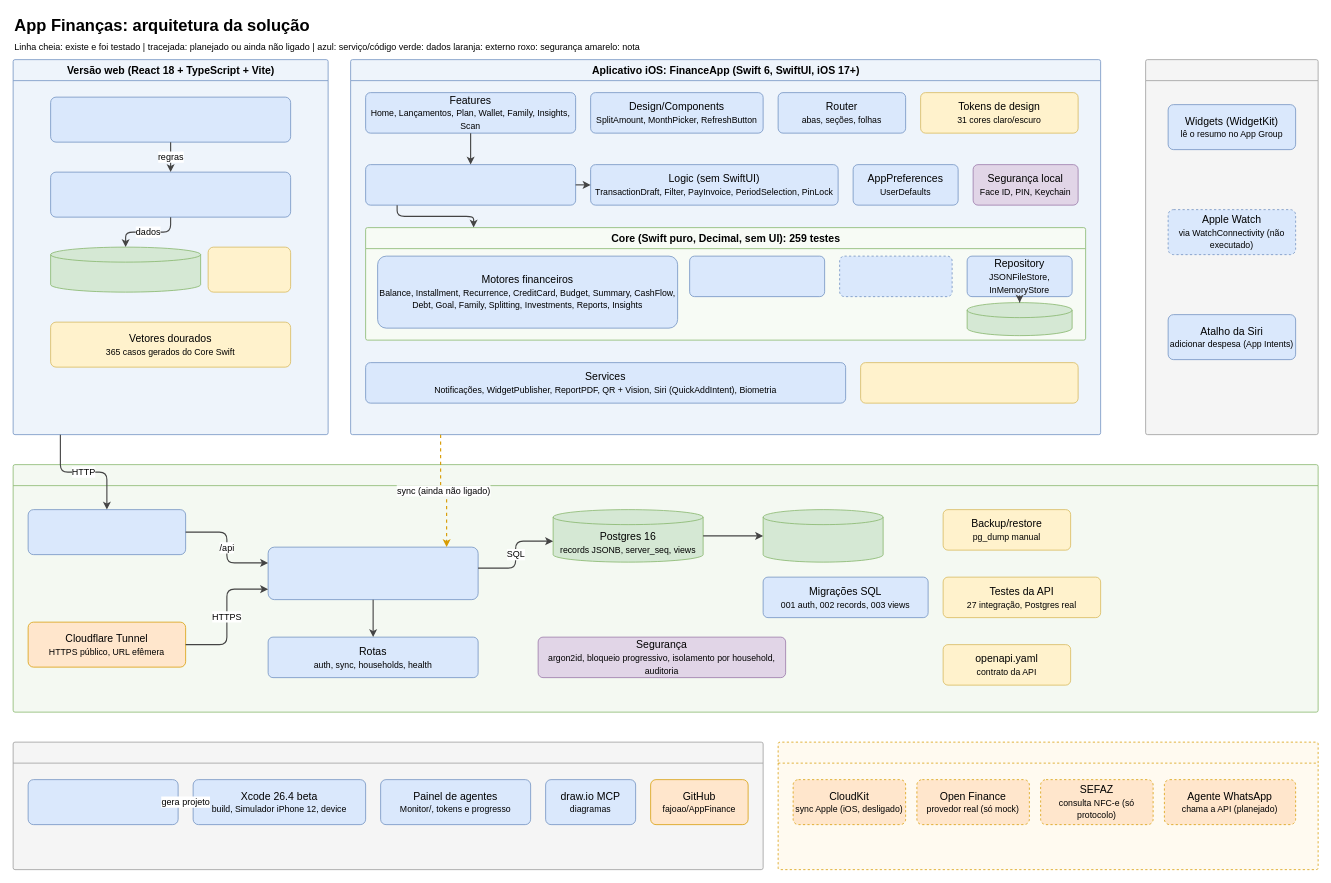
Some shapes in this 1331 by 883 pixel diagram are drawn without their labels. The box of each missing label's shape, as (x1, y1, x2, y2) in pixels:
API Fastify 5 JWT 15 min, refresh rotativo, rate limit, zod: (267, 546, 478, 600)
AppStore @Observable + Family, Money, Security, Refresh: (365, 164, 576, 205)
Backend (Docker Compose no Mac): (12, 464, 1318, 712)
data.json Application Support: (966, 302, 1072, 336)
e2e Playwright 18 testes: (207, 246, 291, 292)
Extensões do iOS: (1145, 59, 1318, 435)
Ferramentas e processo: (12, 741, 763, 870)
Importing OFX, CSV, Boleto, NFC-e, ReceiptText: (689, 255, 825, 297)
IndexedDB offline-first + fila de sync: (50, 246, 201, 292)
nginx estáticos + proxy /api, CSP: (27, 509, 186, 555)
Planejado / não ligado: (777, 741, 1318, 870)
Porte do Core em TypeScript decimal.js, 388 testes: (50, 171, 291, 217)
Sync SyncEngine, SyncCoordinator: (839, 255, 952, 297)
Telas Início, Lançamentos, Cartões, Orçamento, Família, Relatórios: (50, 96, 291, 142)
Testes iOS test-core, test-app, typecheck, XCUITest 33: (860, 362, 1078, 403)
volume pgdata persistência: (762, 509, 883, 562)
XcodeGen project.yml e project-free.yml: (27, 779, 178, 825)
